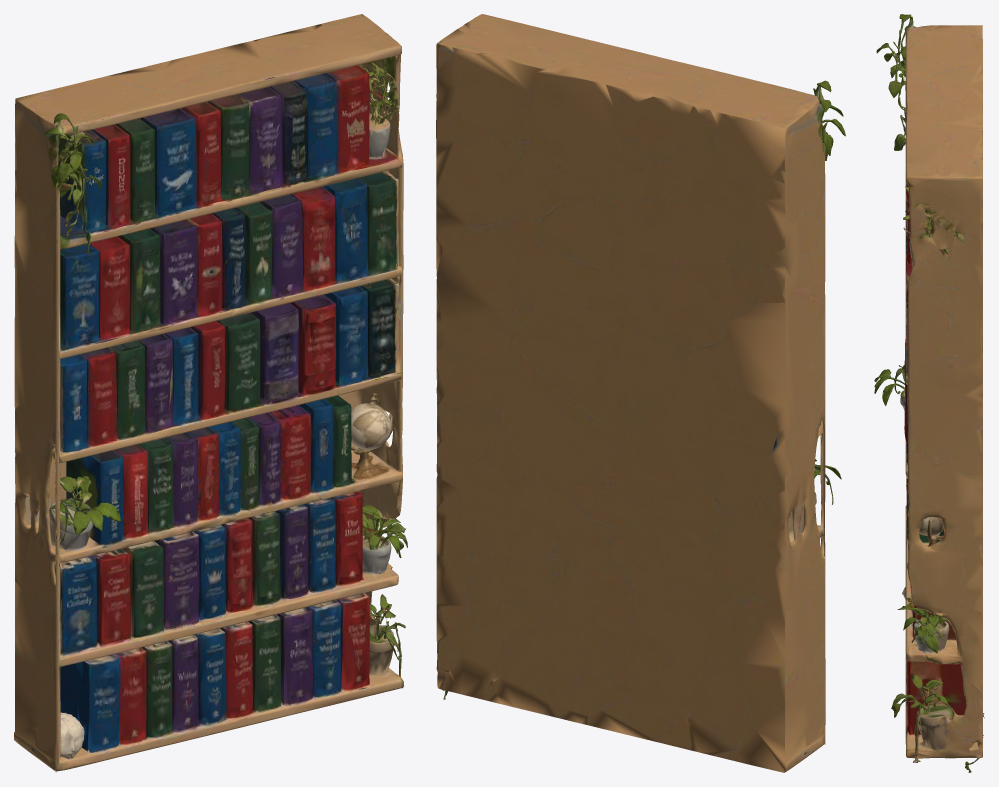
File: bookshelf.glb
3 renders of one model, left to right at view 1: azimuth 30°, elevation 25°; view 2: azimuth 150°, elevation 25°; view 3: azimuth 270°, elevation 25°, orthographic. The views are drawn at different scales.
Bounding box in the file's own units: 1.07 × 1.87 × 0.3089.
Materials: 1 (1 with a texture image).
